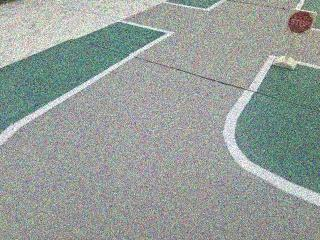stop: (283, 5, 319, 36)
